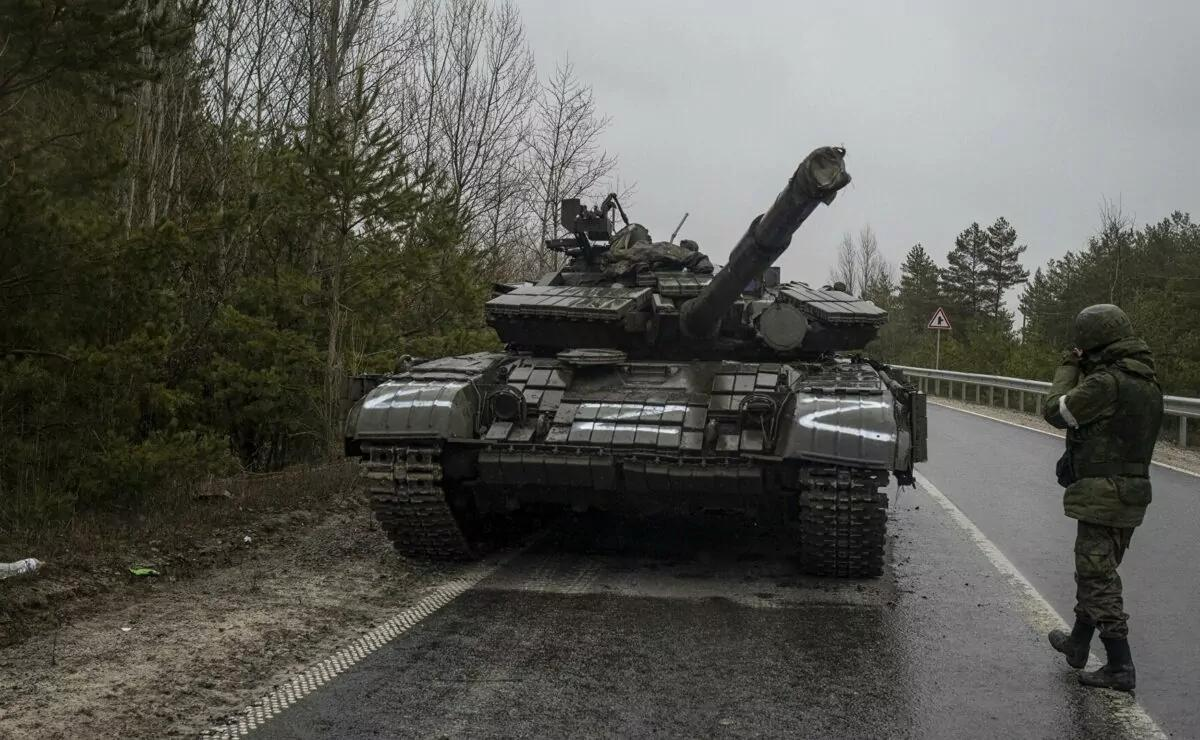person: (1037, 292, 1165, 697)
tank: (355, 147, 915, 572)
